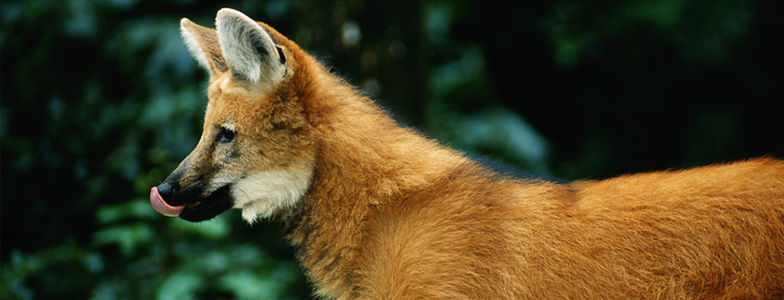LoboGuara: (109, 9, 768, 283)
